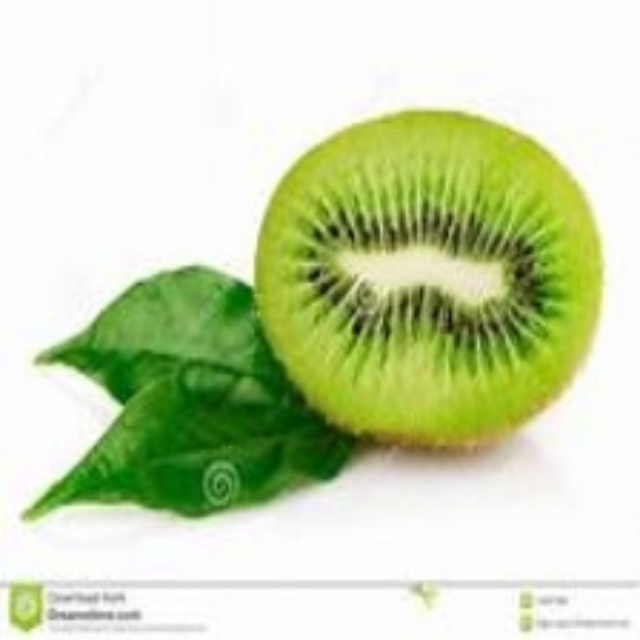kiwi: (265, 106, 607, 456)
